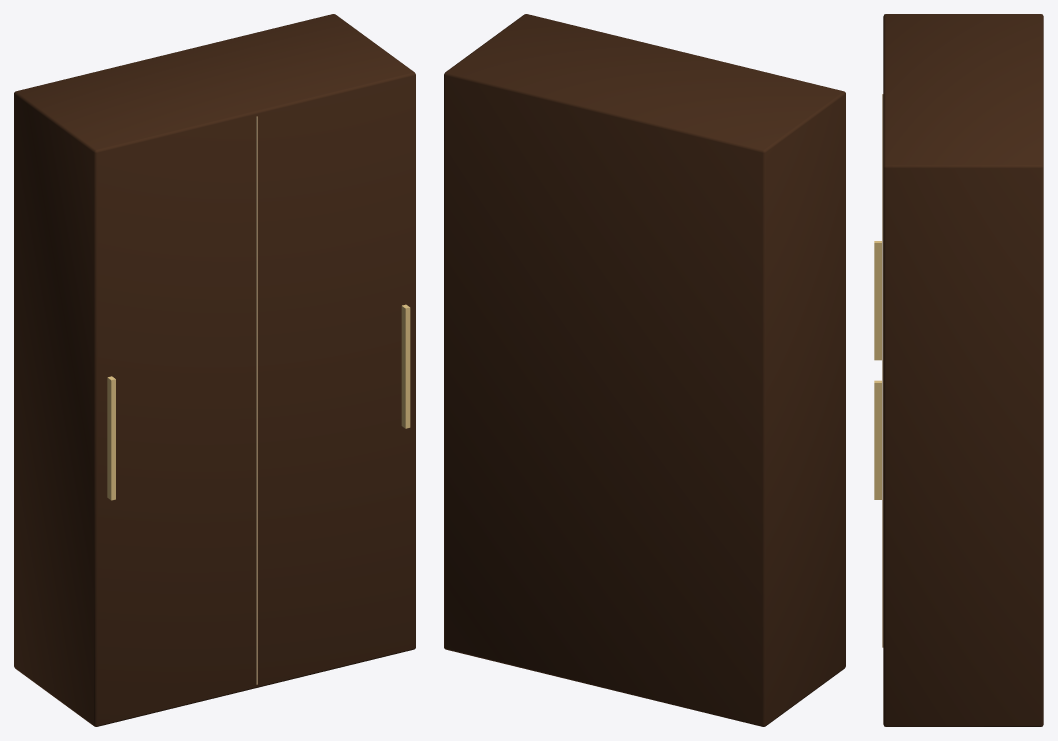
Rendered from fur_wardrobe_2.glb.
The picture shows the model from 3 angles, left to right: view 1: azimuth 30°, elevation 25°; view 2: azimuth 150°, elevation 25°; view 3: azimuth 270°, elevation 25°; orthographic projection. The views are drawn at different scales.
Visible parts, largest first — view 1: FUR_wardrobe_2; view 2: FUR_wardrobe_2; view 3: FUR_wardrobe_2.
Boxes of the visible parts, box(x1,y1,x2,y2) form: FUR_wardrobe_2: box(14, 14, 415, 726); FUR_wardrobe_2: box(444, 14, 845, 726); FUR_wardrobe_2: box(874, 14, 1043, 726).
Size of the model in its own units: 1.4 by 2.4 by 0.655.
